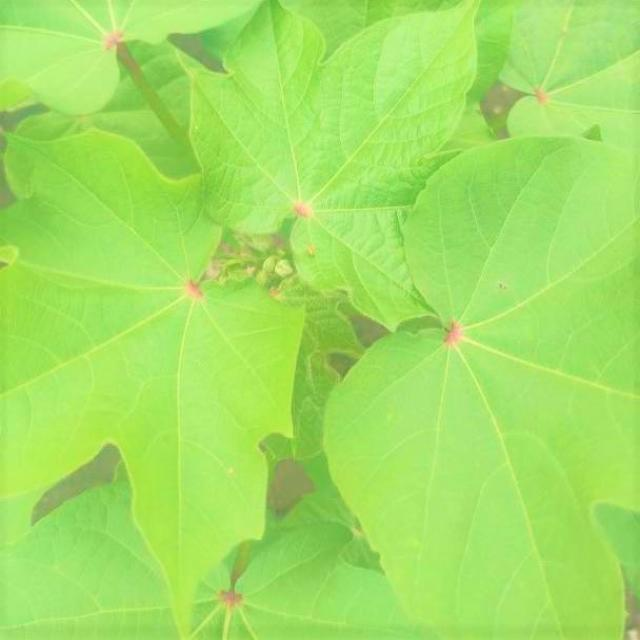Healthy Leaf: (59, 53, 601, 603)
